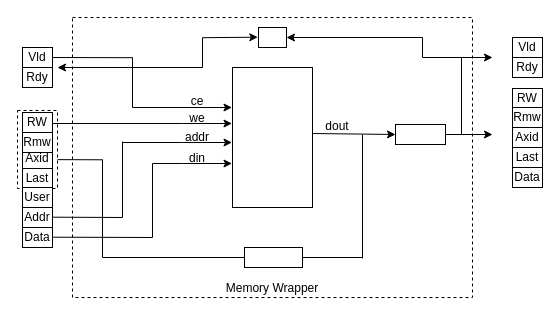
Some shapes in this 560 by 315 pixel diagram are drawn without their labels. Each missing label, with the centre of its shape:
"cnt" belongs at pixel 272 37.
"FIFO" belongs at pixel 420 134.
"pipeline" belongs at pixel 273 257.
"SRAM" belongs at pixel 272 137.
